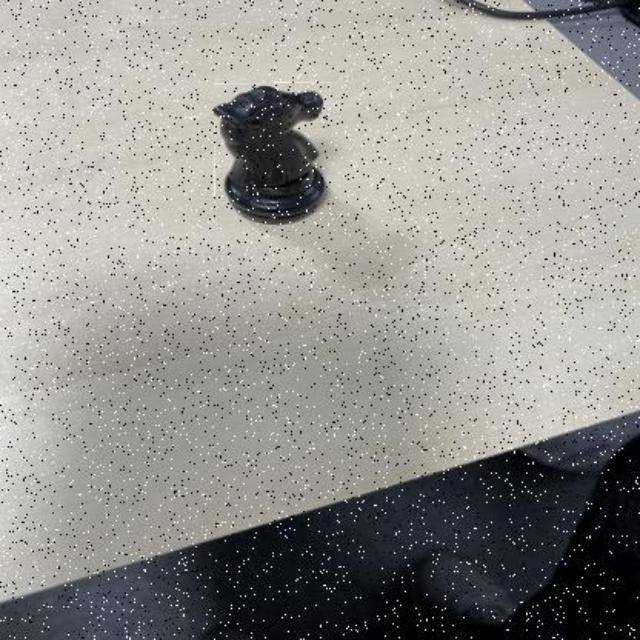black-knight: (216, 83, 332, 227)
